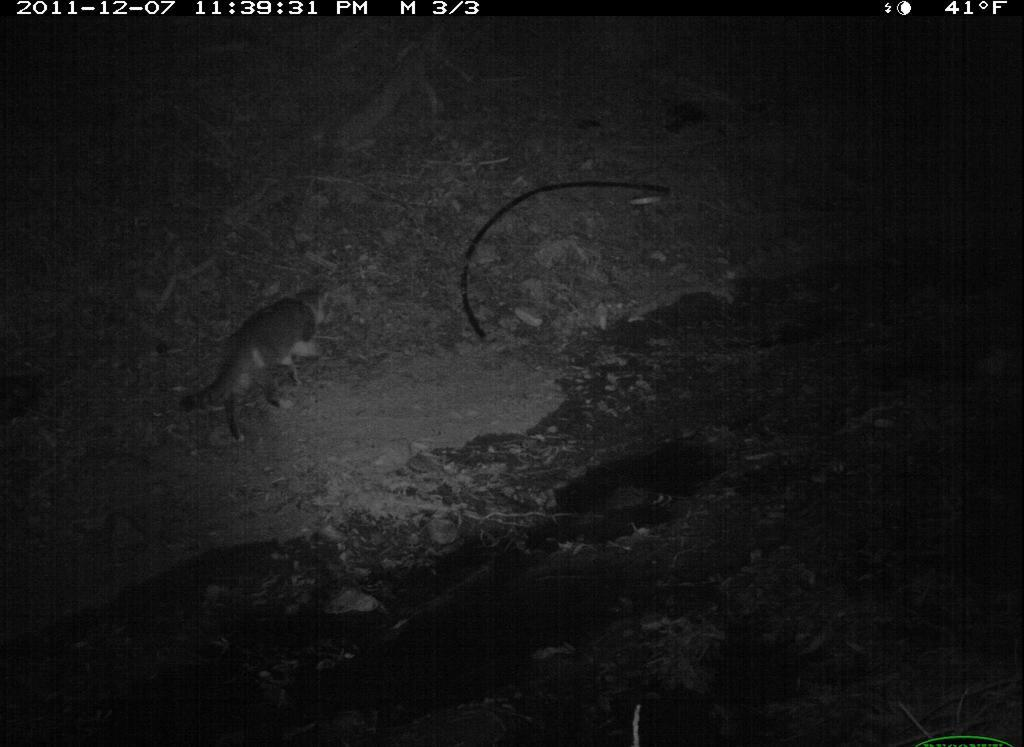cat: (180, 276, 345, 443)
